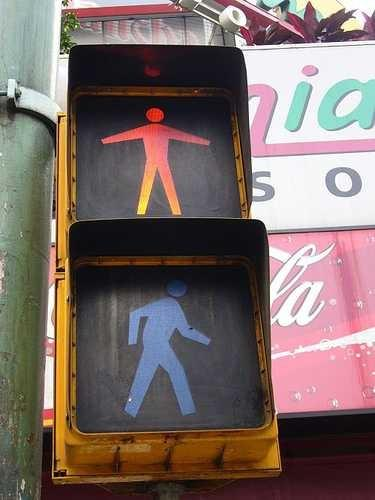red: (78, 83, 244, 241)
